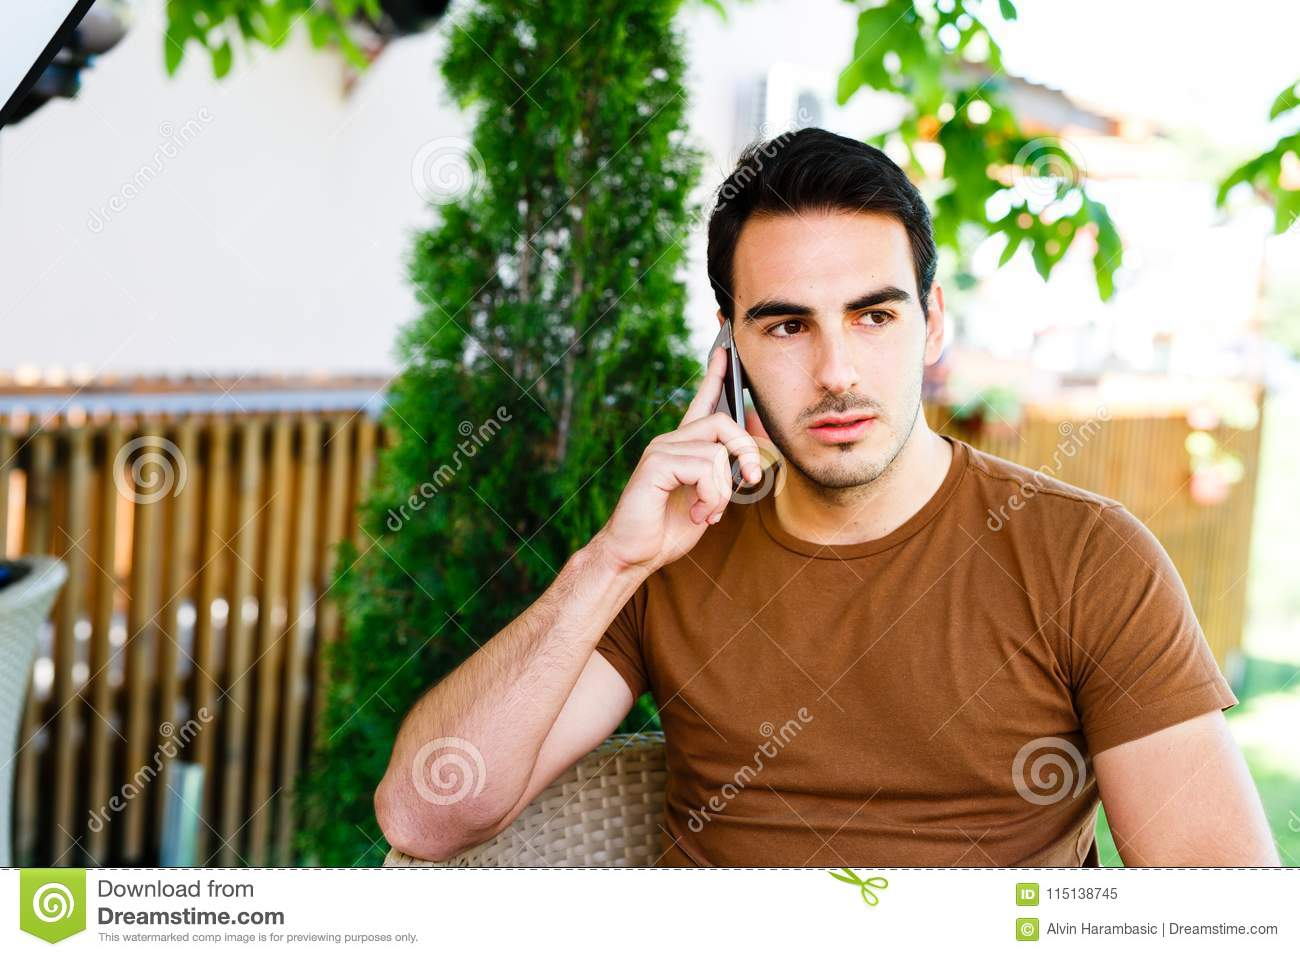phone: (699, 316, 749, 486)
talk: (605, 275, 920, 576)
